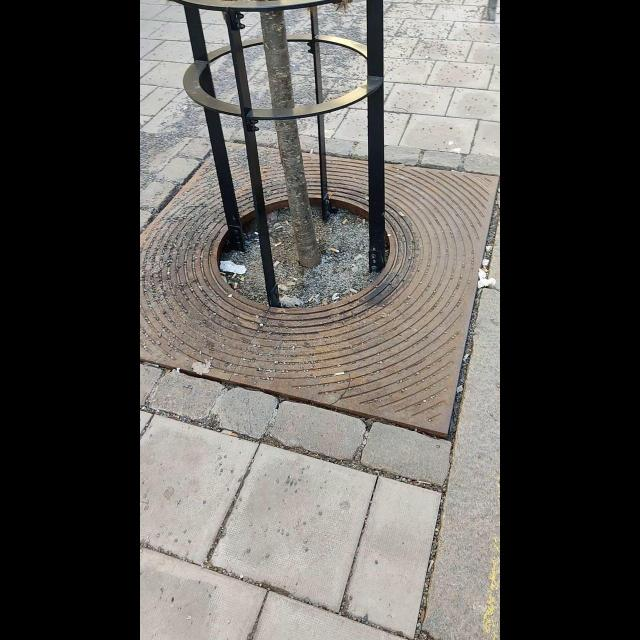cigarette: (332, 372, 347, 376), (273, 259, 279, 268), (349, 288, 358, 294), (481, 265, 488, 272), (330, 248, 340, 252), (274, 241, 281, 246), (398, 211, 404, 216), (308, 296, 313, 302), (342, 220, 348, 224), (286, 220, 290, 226), (234, 282, 237, 290), (232, 274, 236, 279), (276, 226, 282, 228)
